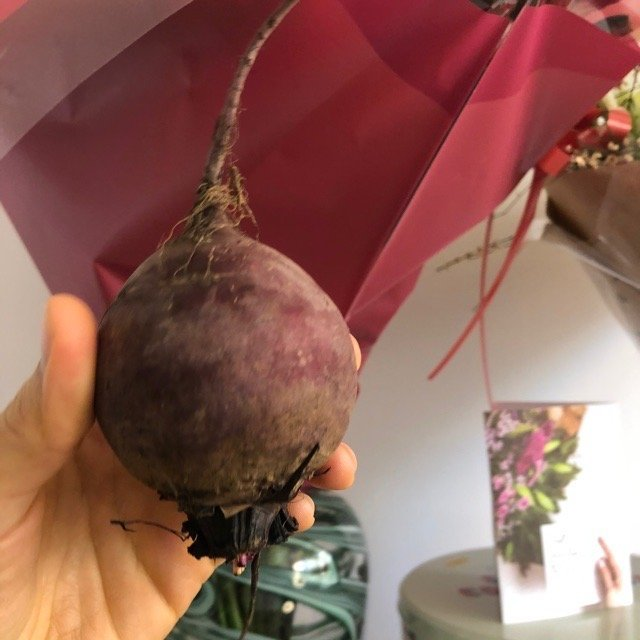beet: (94, 2, 358, 635)
